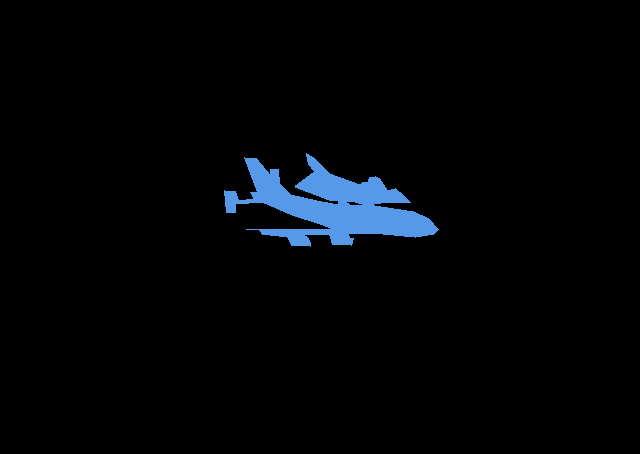Airplane: (224, 157, 438, 247), (295, 153, 410, 206)
